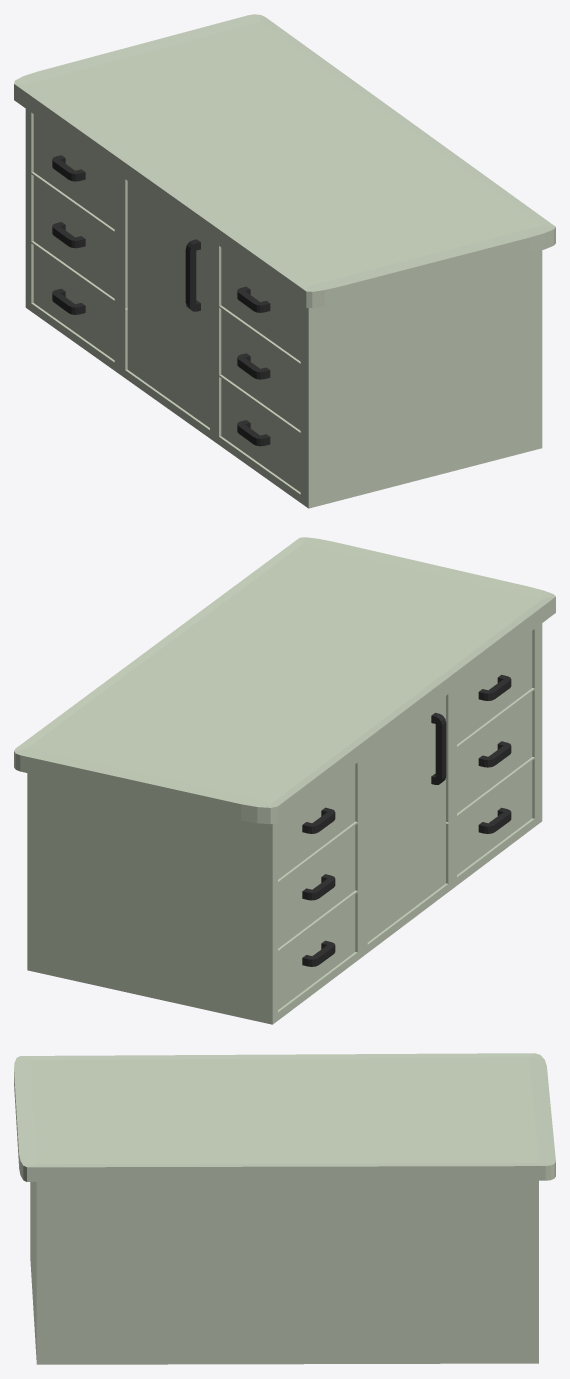
The model's file is cabinet3.fbx.
The picture shows the model from 3 angles, top to bottom: view 1: azimuth 30°, elevation 25°; view 2: azimuth 150°, elevation 25°; view 3: azimuth 270°, elevation 25°; orthographic projection. The views are drawn at different scales.
Parts seen in each view (by area): view 1: Plane.004; view 2: Plane.004; view 3: Plane.004.
Part boxes in pixels (x1,y1,x2,y2): Plane.004: (14,14,555,508); Plane.004: (14,537,555,1024); Plane.004: (14,1053,555,1364).
Size of the model in its own units: 101 by 83 by 203.
